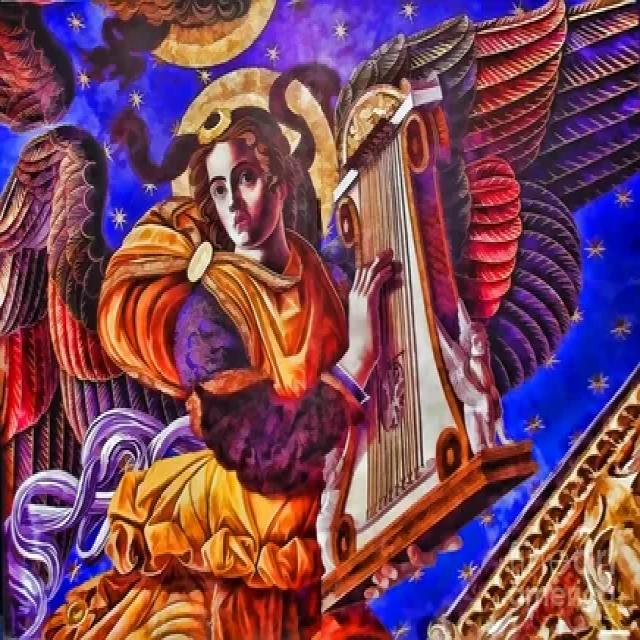angel: (51, 32, 640, 640)
